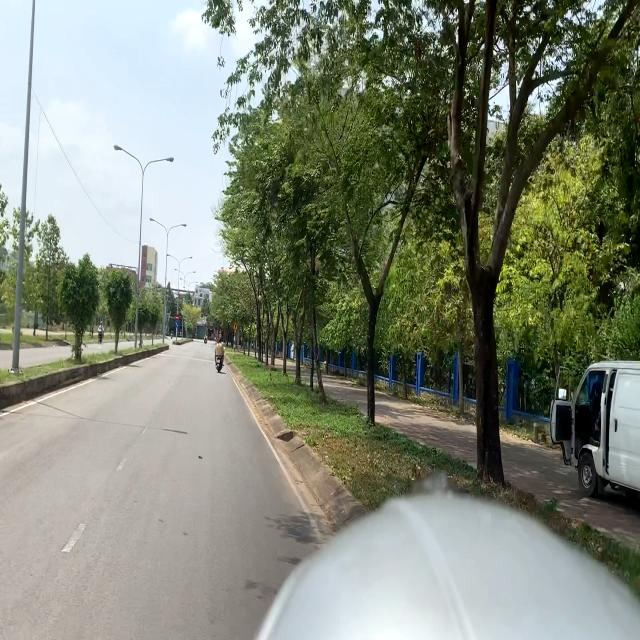P.102: (175, 315, 179, 320)
R.302a: (175, 321, 179, 328)
W.207b: (233, 322, 238, 330)
